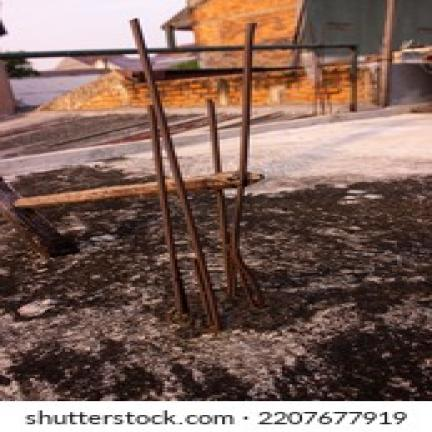karat: (10, 19, 262, 330)
